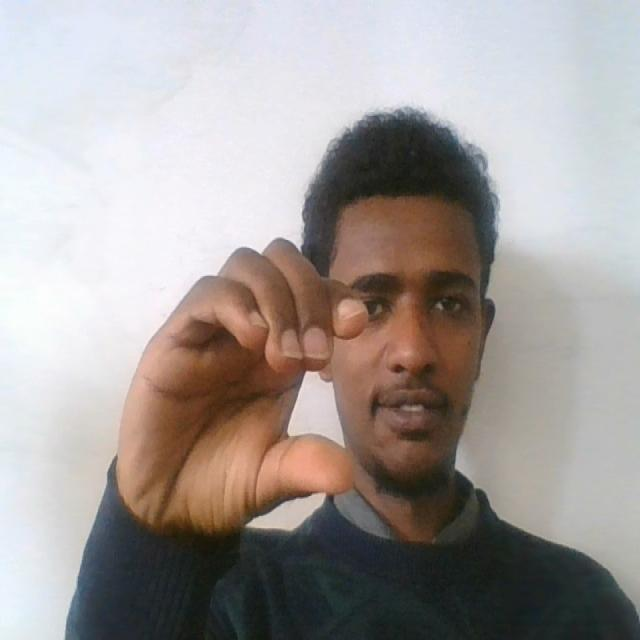no: (105, 226, 377, 540)
